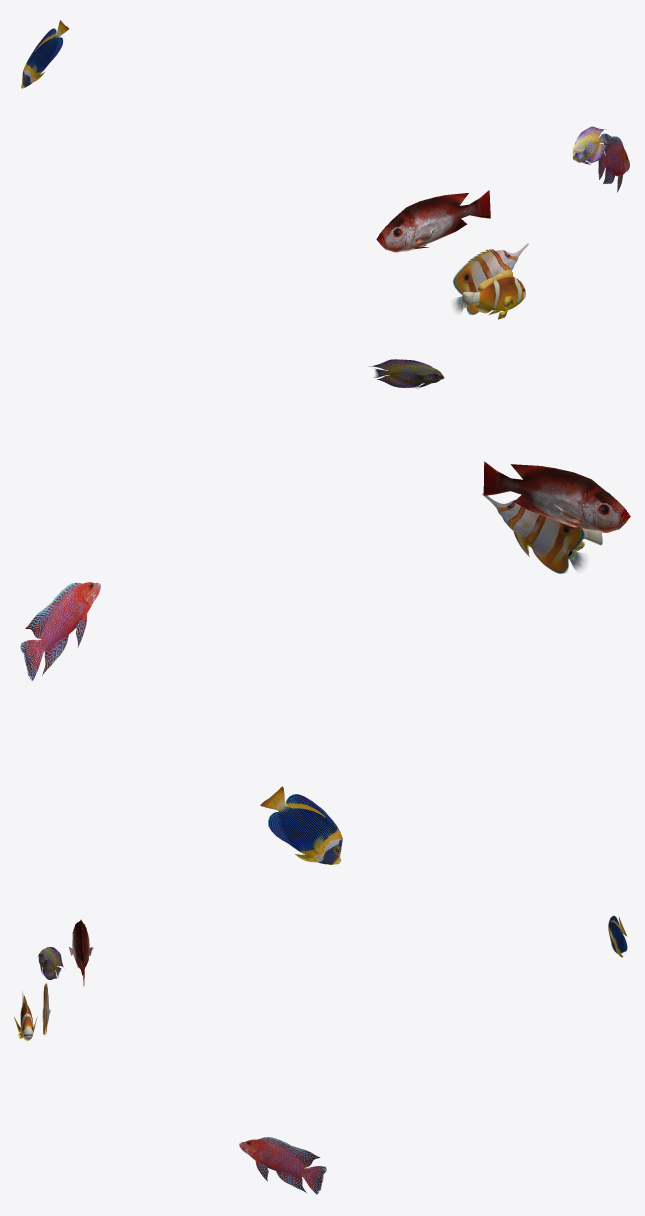
Rendered from fish.glb.
The picture shows the model from 3 angles, top to bottom: view 1: azimuth 30°, elevation 25°; view 2: azimuth 150°, elevation 25°; view 3: azimuth 270°, elevation 25°; orthographic projection. The views are drawn at different scales.
Parts seen in each view (by area): view 1: fishV1, Plane.002, 12265_Fish_v1_L2, Plane, Plane.001, Plane.003; view 2: fishV1, Plane, Plane.001, Plane.002, Plane.003; view 3: Plane.001, fishV1, Plane.003, Plane, 12265_Fish_v1_L2.
Boxes of the visible parts, <box> form: fishV1: <box>376,190,490,252</box>; Plane.002: <box>453,243,528,314</box>; 12265_Fish_v1_L2: <box>462,269,525,319</box>; Plane: <box>21,20,68,88</box>; Plane.001: <box>598,133,629,192</box>; Plane.003: <box>572,126,607,164</box>; fishV1: <box>483,461,630,532</box>; Plane: <box>260,786,342,864</box>; Plane.001: <box>20,582,100,681</box>; Plane.002: <box>482,493,585,573</box>; Plane.003: <box>368,359,444,388</box>; Plane.001: <box>239,1137,326,1194</box>; fishV1: <box>69,919,93,986</box>; Plane.003: <box>38,947,64,979</box>; Plane: <box>608,915,627,957</box>; 12265_Fish_v1_L2: <box>14,991,37,1040</box>.
Bounding box in the file's own units: 5.58 × 2.52 × 7.66.
Materials: 6 (6 with a texture image).
